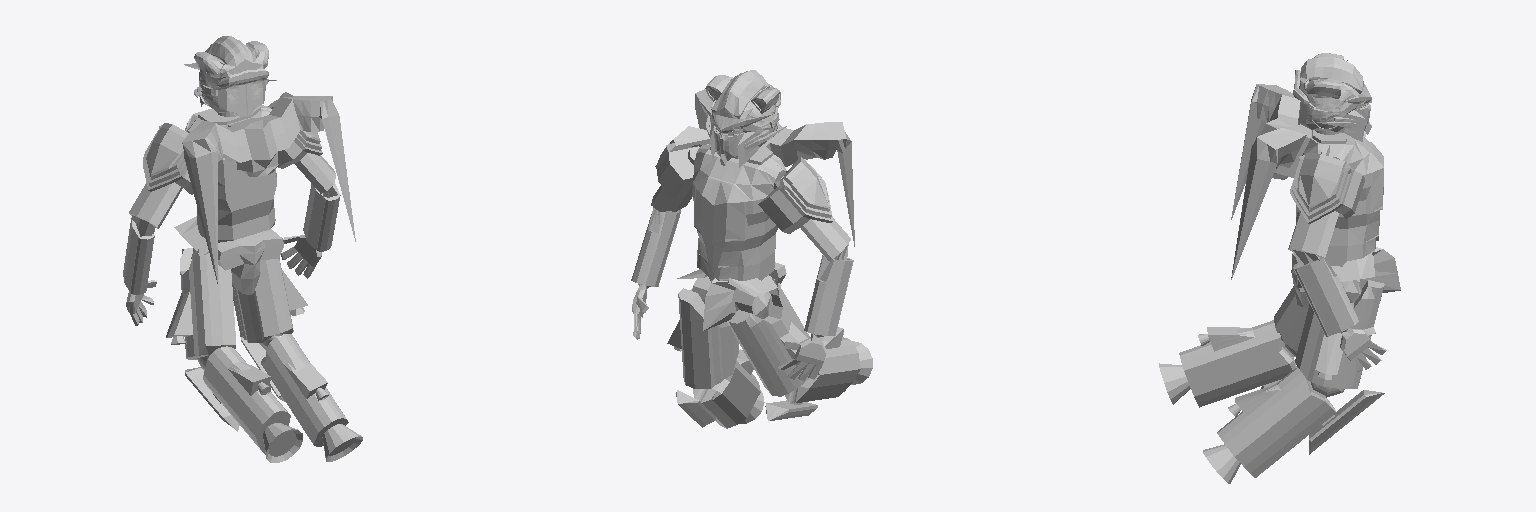
The model's file is walk2.obj.
3 views of the same model, side by side, from view 1: azimuth 30°, elevation 25°; view 2: azimuth 150°, elevation 25°; view 3: azimuth 270°, elevation 25° (orthographic).
Parts seen in each view (by area): view 1: Bottom_Half_Cube.008; view 2: Bottom_Half_Cube.008; view 3: Bottom_Half_Cube.008.
Part boxes in pixels (bbox=[...]): Bottom_Half_Cube.008: bbox=[123, 36, 362, 462]; Bottom_Half_Cube.008: bbox=[631, 70, 872, 428]; Bottom_Half_Cube.008: bbox=[1159, 53, 1400, 483].
Bounding box in the file's own units: 0.9575 × 1.8 × 0.9901.